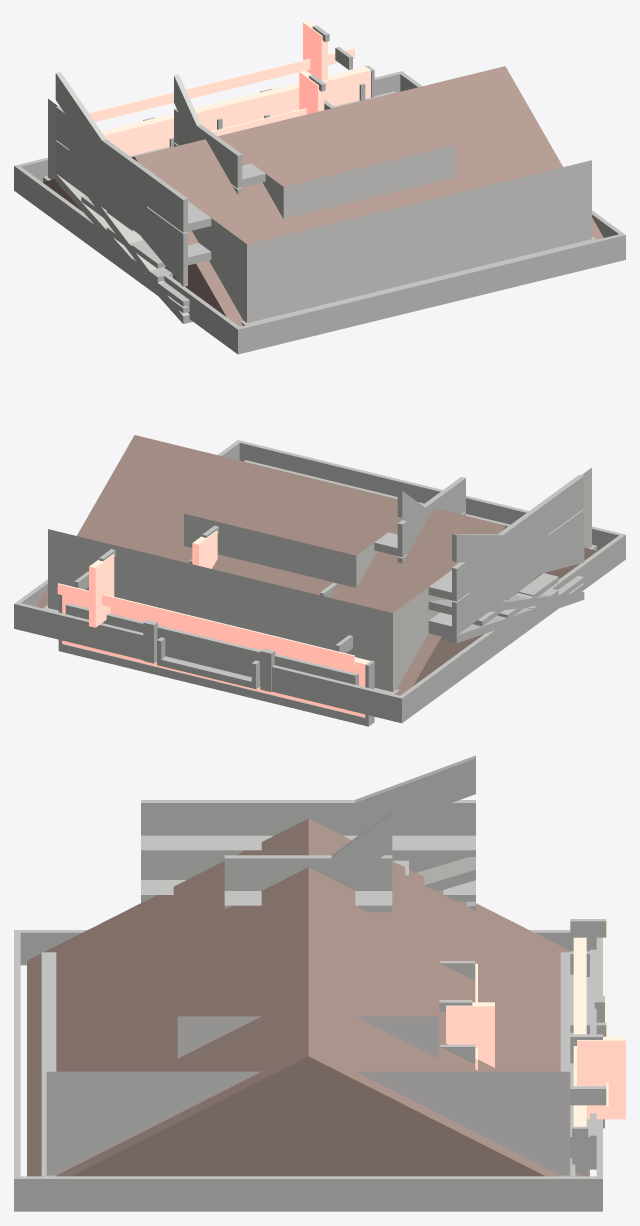
File: building.glb
3 views of the same model, one above another, from view 1: azimuth 30°, elevation 25°; view 2: azimuth 150°, elevation 25°; view 3: azimuth 270°, elevation 25° (orthographic). The views are drawn at different scales.
Visible parts, largest first — view 1: fp2_roof_gable, fp2_base, fp2_fence, fp2_exstair_base, fp2_exstair, fp1_base, fp2_sign_roof, fp2_floor, fp1_exstair_base, fp2_awning, fp2_sign_blade, fp2_roof2 (+2 smaller); view 2: fp2_roof_gable, fp2_base, fp2_fence, fp2_exstair_base, fp2_exstair, fp2_sign_roof, fp2_floor, fp1_base, fp2_balcony, fp2_awning, fp1_exstair_base, fp2_stair (+3 smaller); view 3: fp2_roof_gable, fp2_fence, fp2_base, fp2_exstair_base, fp1_exstair_base, fp2_floor, fp2_exstair, fp2_roof2, fp1_base, fp2_sign_blade, fp2_sign_roof, fp1_sign_blade (+3 smaller).
Boxes of the visible parts, x1,y1,x2,y2 form: fp2_roof_gable: [43, 66, 603, 326]; fp2_base: [48, 99, 591, 323]; fp2_fence: [14, 71, 625, 354]; fp2_exstair_base: [55, 72, 211, 323]; fp2_exstair: [55, 109, 211, 323]; fp1_base: [262, 145, 455, 218]; fp2_sign_roof: [101, 65, 374, 156]; fp2_floor: [48, 133, 591, 322]; fp1_exstair_base: [174, 74, 265, 188]; fp2_awning: [89, 47, 354, 121]; fp2_sign_blade: [303, 21, 329, 80]; fp2_roof2: [43, 91, 596, 325]; fp2_roof_gable: [36, 435, 597, 695]; fp2_base: [48, 467, 591, 691]; fp2_fence: [14, 440, 625, 723]; fp2_exstair_base: [428, 474, 584, 616]; fp2_exstair: [428, 509, 584, 643]; fp2_sign_roof: [58, 594, 374, 726]; fp2_floor: [48, 502, 591, 691]; fp1_base: [184, 513, 377, 587]; fp2_balcony: [65, 603, 358, 685]; fp2_awning: [57, 571, 354, 666]; fp1_exstair_base: [374, 477, 465, 557]; fp2_stair: [157, 637, 260, 689]; fp2_roof_gable: [27, 818, 589, 1176]; fp2_fence: [14, 930, 604, 1211]; fp2_base: [46, 1071, 570, 1175]; fp2_exstair_base: [141, 755, 475, 902]; fp1_exstair_base: [224, 811, 392, 912]; fp2_floor: [46, 1116, 570, 1175]; fp2_exstair: [141, 804, 475, 911]; fp2_roof2: [41, 952, 575, 1176]; fp1_base: [177, 1016, 439, 1058]; fp2_sign_blade: [570, 1034, 625, 1119]; fp2_sign_roof: [572, 937, 588, 1176]; fp1_sign_blade: [439, 1000, 494, 1067].
Size of the model in its own units: 3.66 by 1.52 by 3.74.
